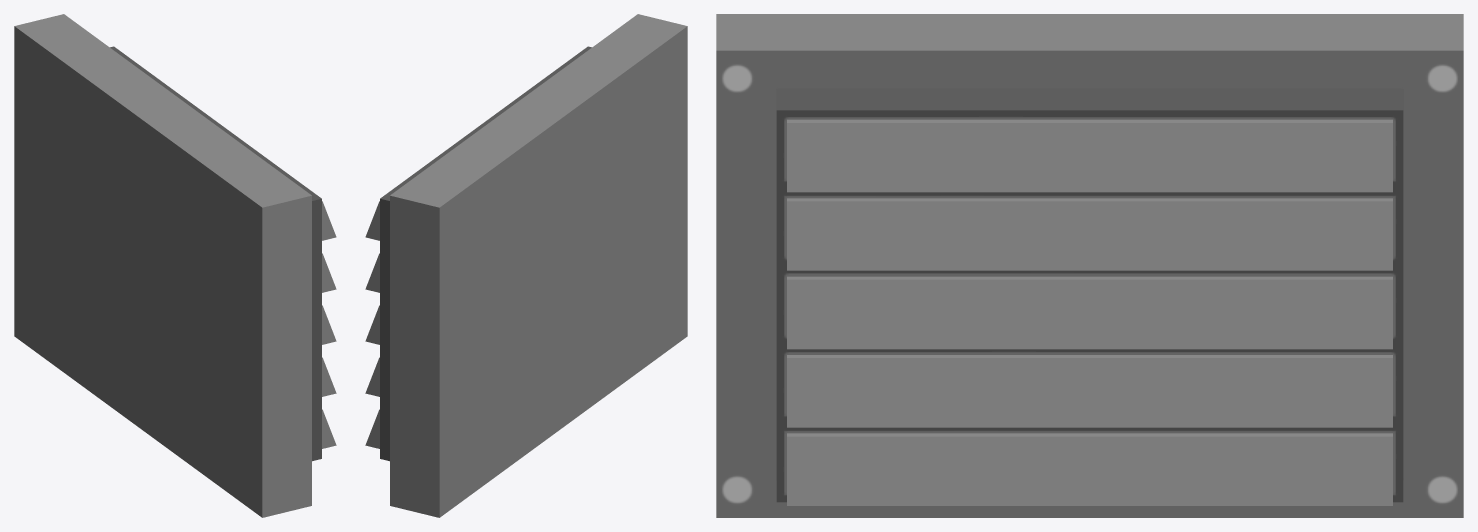
Rendered from Vent.glb.
The picture shows the model from 3 angles, left to right: view 1: azimuth 30°, elevation 25°; view 2: azimuth 150°, elevation 25°; view 3: azimuth 270°, elevation 25°; orthographic projection. The views are drawn at different scales.
Visible parts, largest first — view 1: Cube; view 2: Cube; view 3: Cube.
Part boxes in pixels (bbox=[...]): Cube: bbox=[14, 14, 336, 517]; Cube: bbox=[365, 14, 687, 517]; Cube: bbox=[716, 14, 1463, 517].
Bounding box in the file's own units: 0.2046 × 0.6208 × 0.8998.
1 material, 1 textured.
